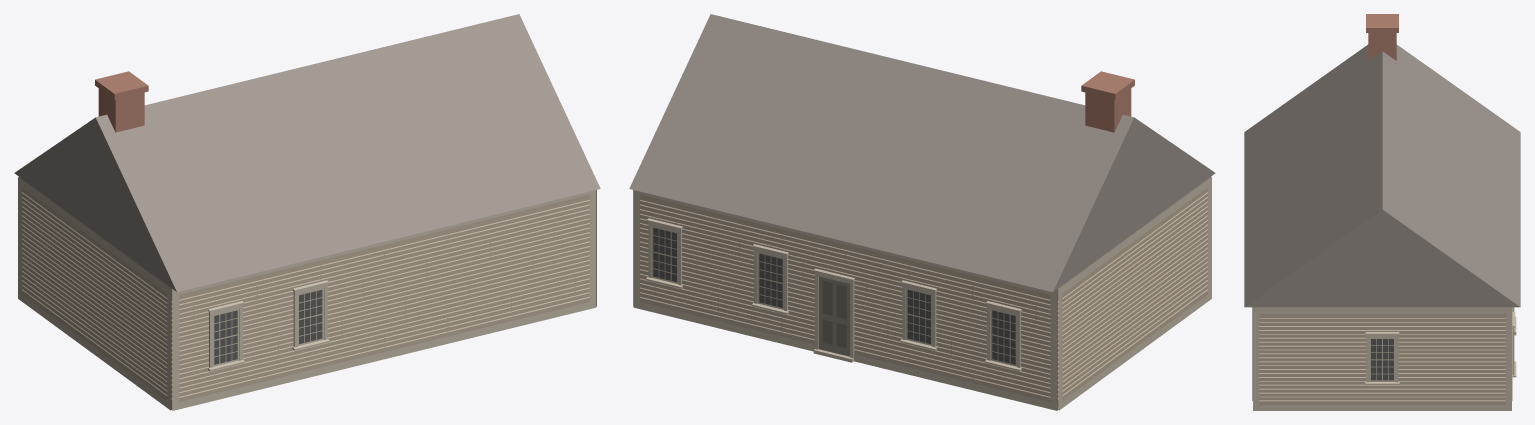
File: first_presbyterian_church__frame_1834.glb
The picture shows the model from 3 angles, left to right: view 1: azimuth 30°, elevation 25°; view 2: azimuth 150°, elevation 25°; view 3: azimuth 270°, elevation 25°; orthographic projection. The views are drawn at different scales.
Parts seen in each view (by area): view 1: first_presbyterian_church__frame_1834; view 2: first_presbyterian_church__frame_1834; view 3: first_presbyterian_church__frame_1834.
Boxes of the visible parts, left/top/right/bottom form: first_presbyterian_church__frame_1834: left=14, top=14, right=600, bottom=410; first_presbyterian_church__frame_1834: left=629, top=14, right=1215, bottom=410; first_presbyterian_church__frame_1834: left=1244, top=14, right=1520, bottom=410.
Bounding box in the file's own units: 12.35 × 7.3 × 8.12.
